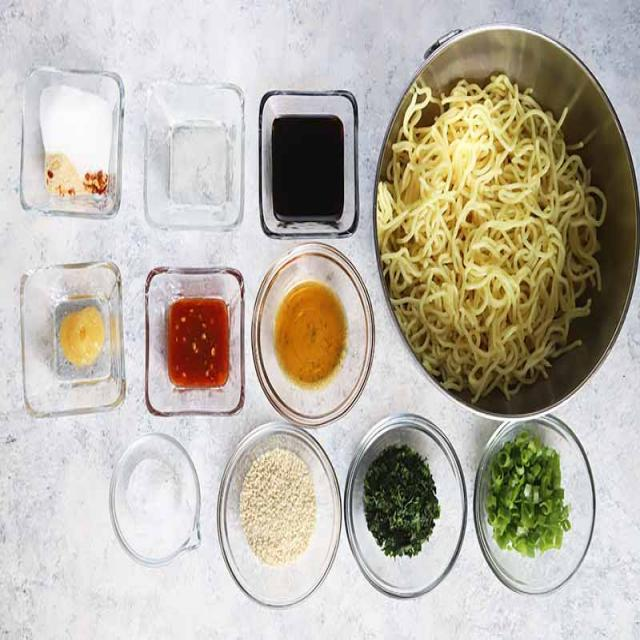noodle: (372, 70, 614, 404)
spring onion: (482, 434, 576, 565)
sugar: (35, 82, 115, 171)
